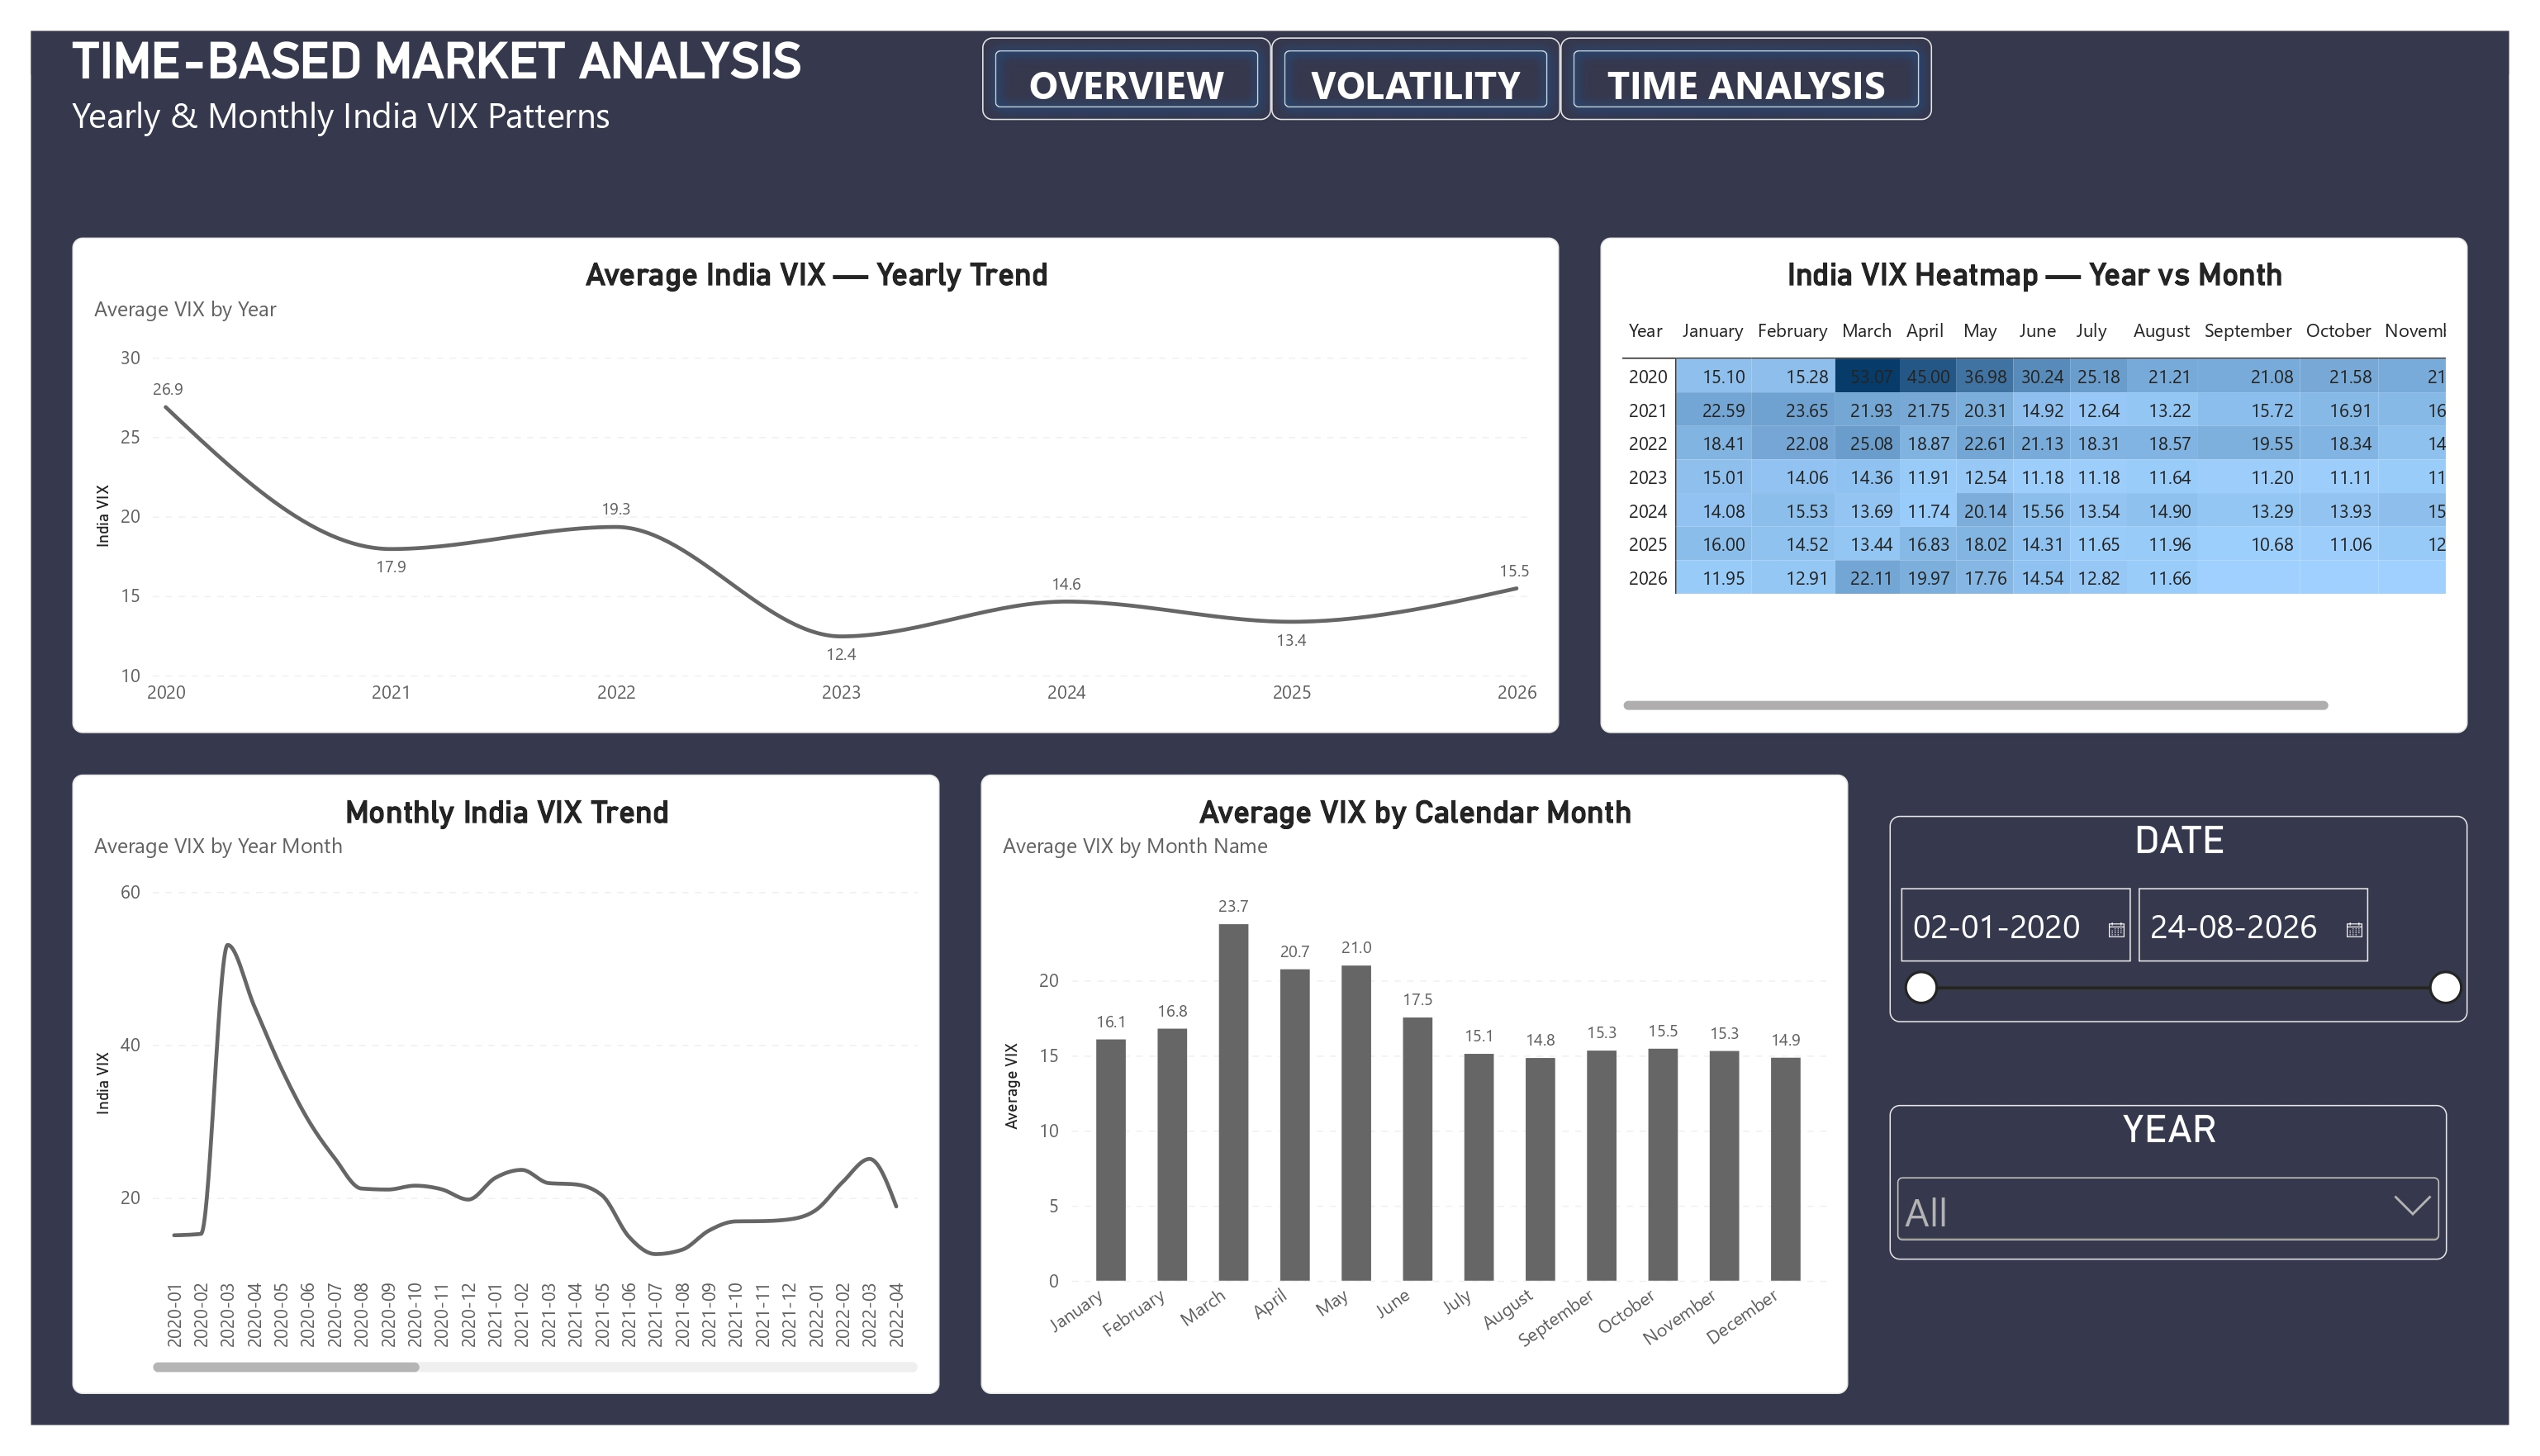

What the dashboard file says about the page in this screenshot:
{"tool":"powerbi","page":{"name":"03_Time Analysis","canvas":[1920,1080],"ordinal":2},"visuals":[{"type":"textbox","title":"TIME-BASED MARKET ANALYSIS","box":[32,0,1888,96],"z":0},{"type":"lineChart","title":"Average India VIX — Yearly Trend","fields":{"Category":["DateTable.Year"],"Y":["IndiaVIX_Cleaned.Average VIX"]},"box":[32,160,1152,384],"z":5000},{"type":"slicer","title":"DATE","fields":{"Values":["DateTable.Date"]},"box":[1440,608,448,160],"z":6000},{"type":"slicer","title":"YEAR","fields":{"Values":["DateTable.Year"]},"box":[1440,832,432,120],"z":7000},{"type":"lineChart","title":"Monthly India VIX Trend","fields":{"Category":["DateTable.Year Month"],"Y":["IndiaVIX_Cleaned.Average VIX"]},"box":[32,576,672,480],"z":12000},{"type":"clusteredColumnChart","title":"Average VIX by Calendar Month","fields":{"Category":["DateTable.Month Name"],"Y":["IndiaVIX_Cleaned.Average VIX"]},"box":[736,576,672,480],"z":13000},{"type":"pivotTable","title":"India VIX Heatmap — Year vs Month","fields":{"Columns":["DateTable.Month Name"],"Rows":["DateTable.Year"],"Values":["IndiaVIX_Cleaned.Average VIX"]},"box":[1216,160,672,384],"z":15000},{"type":"actionButton","box":[736.7,5.3,224,64],"z":15001},{"type":"actionButton","box":[960.7,5.3,224,64],"z":15002},{"type":"actionButton","box":[1184.7,5.3,288,64],"z":15003}]}

Visuals, with their boxes on the page's 1920x1080 design canvas (x1, y1, x2, y2). These are canvas units, not pixel positions in the 2540x1456 screenshot, which may show the page scaled, cropped or inside an application window:
"TIME-BASED MARKET ANALYSIS" textbox: region(32, 0, 1920, 96)
"Average India VIX — Yearly Trend" lineChart: region(32, 160, 1184, 544)
"DATE" slicer: region(1440, 608, 1888, 768)
"YEAR" slicer: region(1440, 832, 1872, 952)
"Monthly India VIX Trend" lineChart: region(32, 576, 704, 1056)
"Average VIX by Calendar Month" clusteredColumnChart: region(736, 576, 1408, 1056)
"India VIX Heatmap — Year vs Month" pivotTable: region(1216, 160, 1888, 544)
actionButton: region(737, 5, 961, 69)
actionButton: region(961, 5, 1185, 69)
actionButton: region(1185, 5, 1473, 69)
